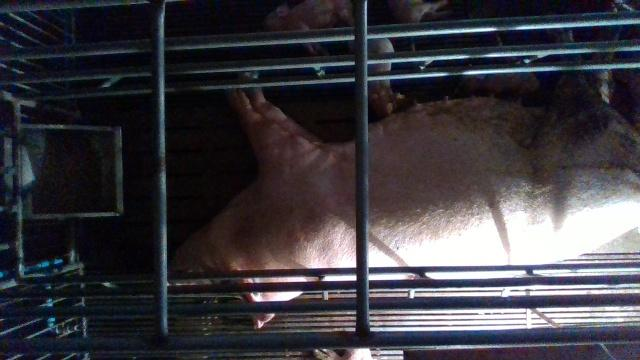piglet: (261, 0, 354, 57), (370, 38, 403, 119), (454, 65, 539, 95), (388, 0, 451, 23)
sow-sleep-lactate: (172, 67, 640, 331)
